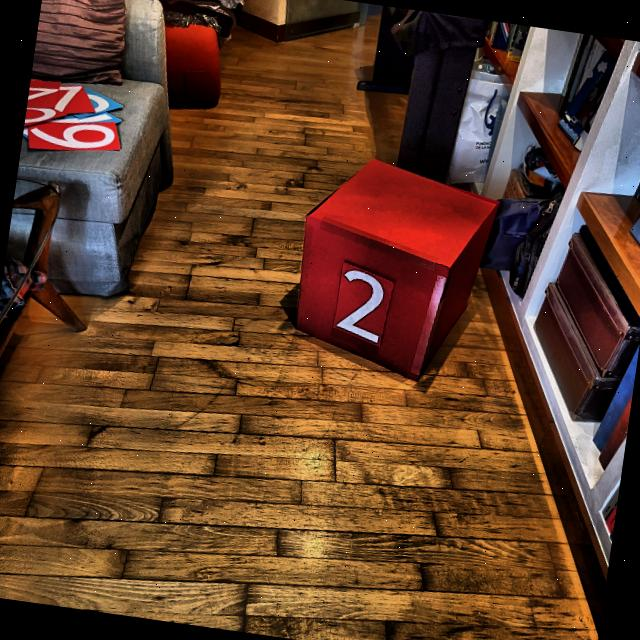red box: (283, 149, 503, 392)
two: (334, 268, 392, 346)
